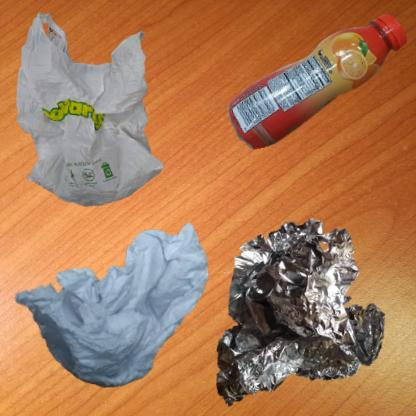aluminio: (213, 213, 392, 416)
bolsa: (10, 10, 174, 213)
botella: (213, 10, 416, 173)
papel: (10, 213, 213, 394)
